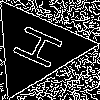H: (11, 23, 74, 75)
